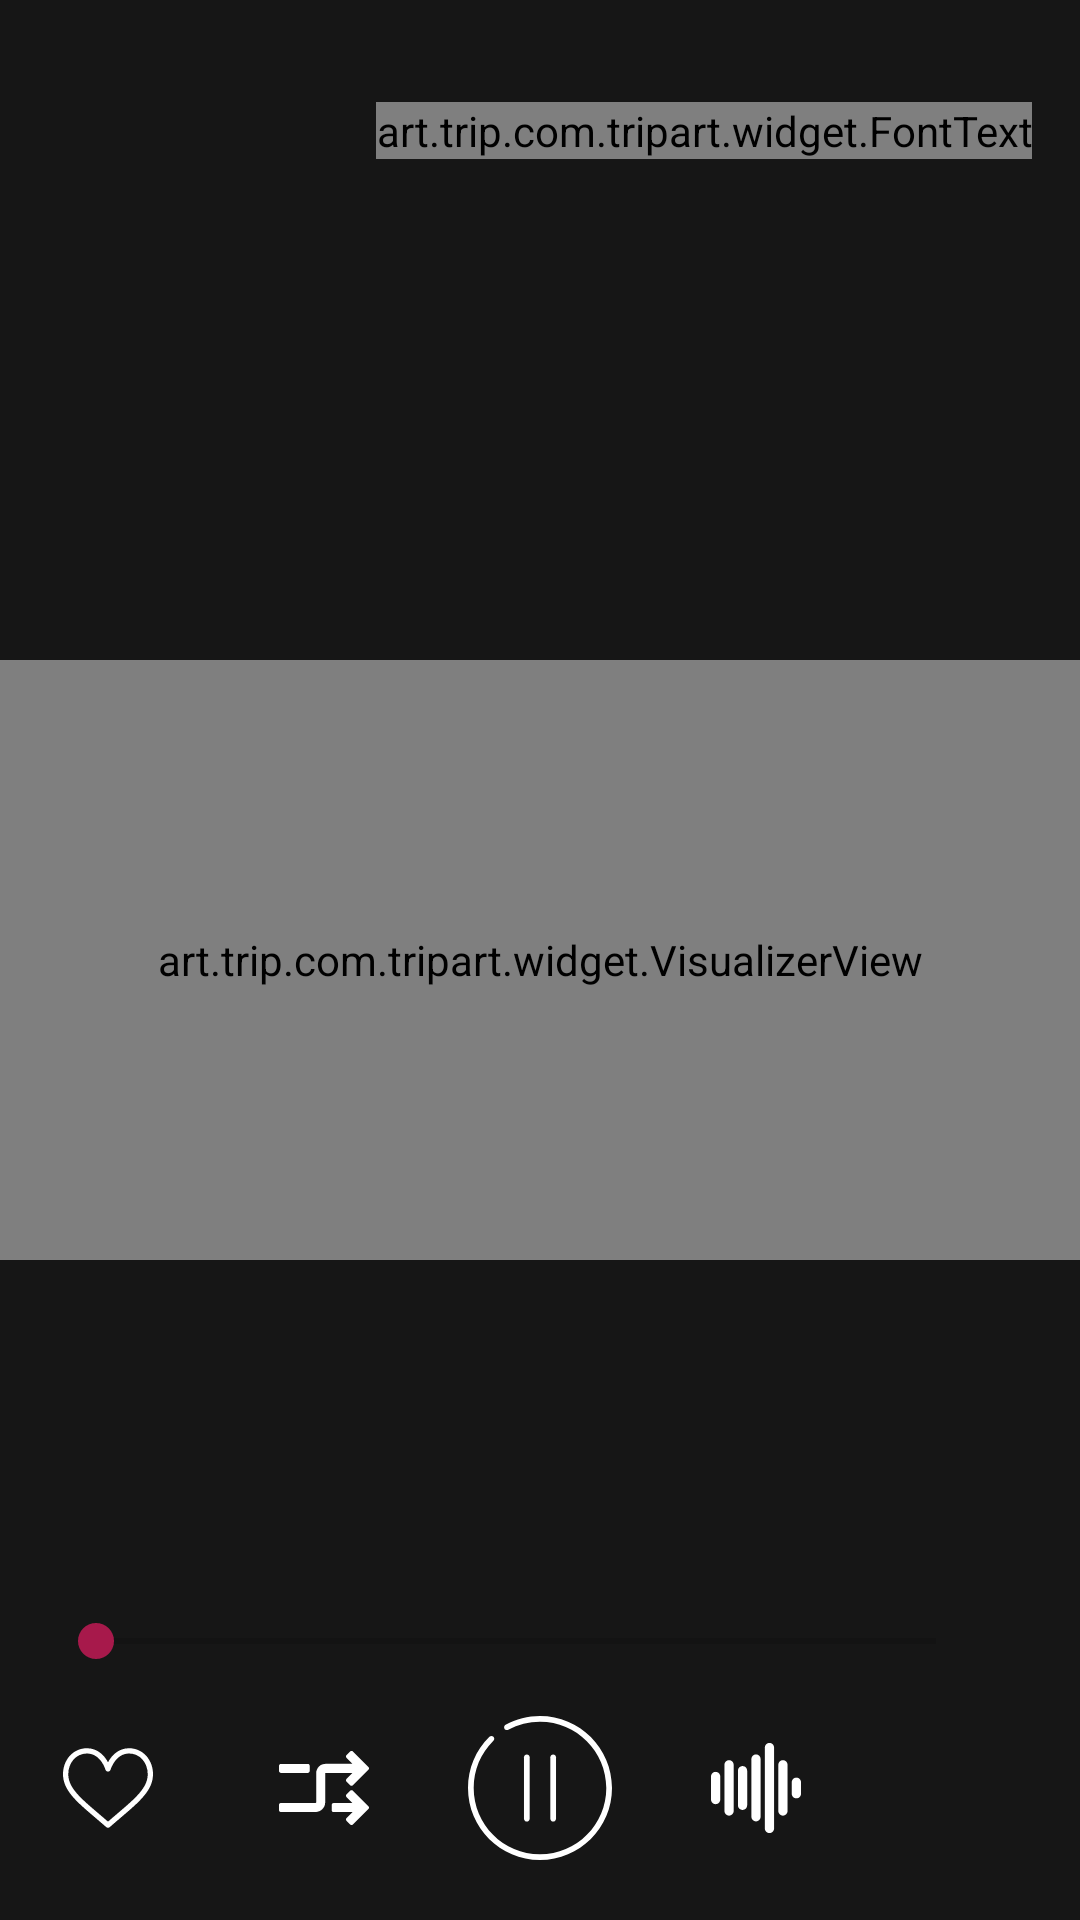

Point at icon controls on the screen. Image size 1080×1920, points as [x,y].
equalizer: [756,1788]
like: [108,1788]
pause: [540,1788]
